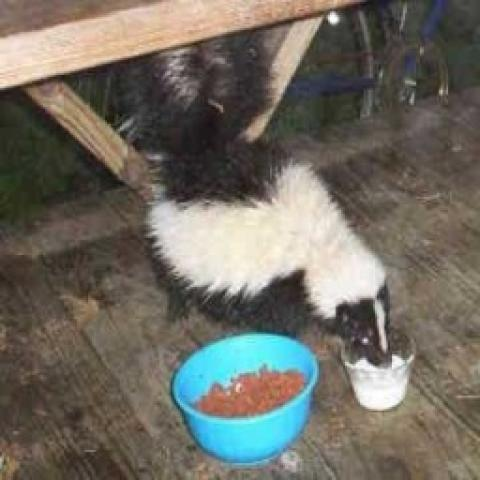small_animal: (152, 42, 405, 375)
